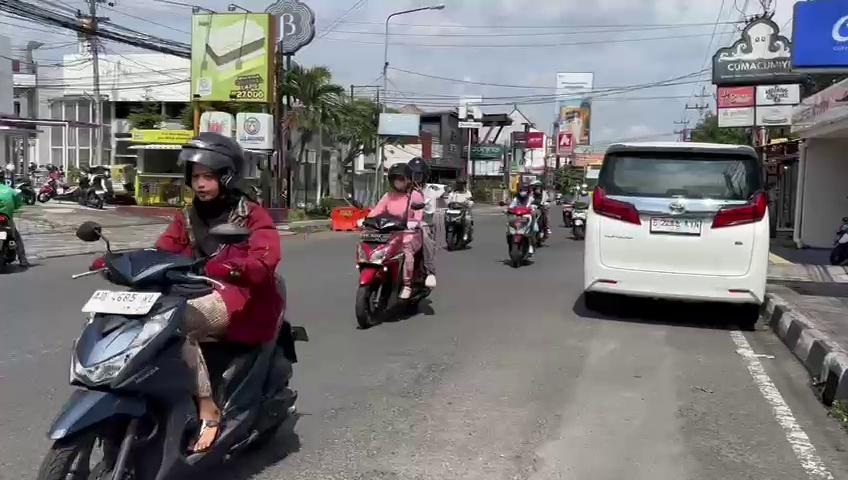helm: (175, 129, 250, 203)
riding: (31, 127, 311, 477)
